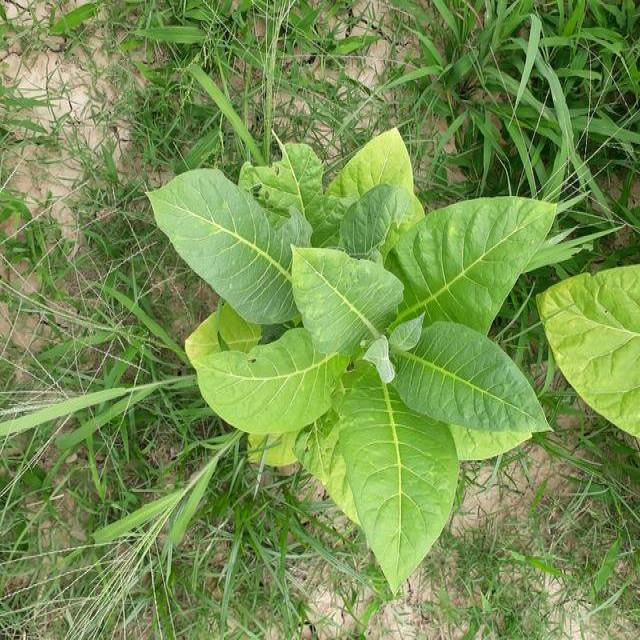crop: (139, 132, 572, 588), (523, 256, 640, 429)
